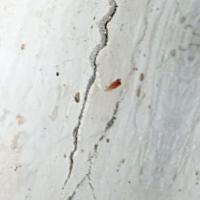crack: (46, 2, 127, 199)
